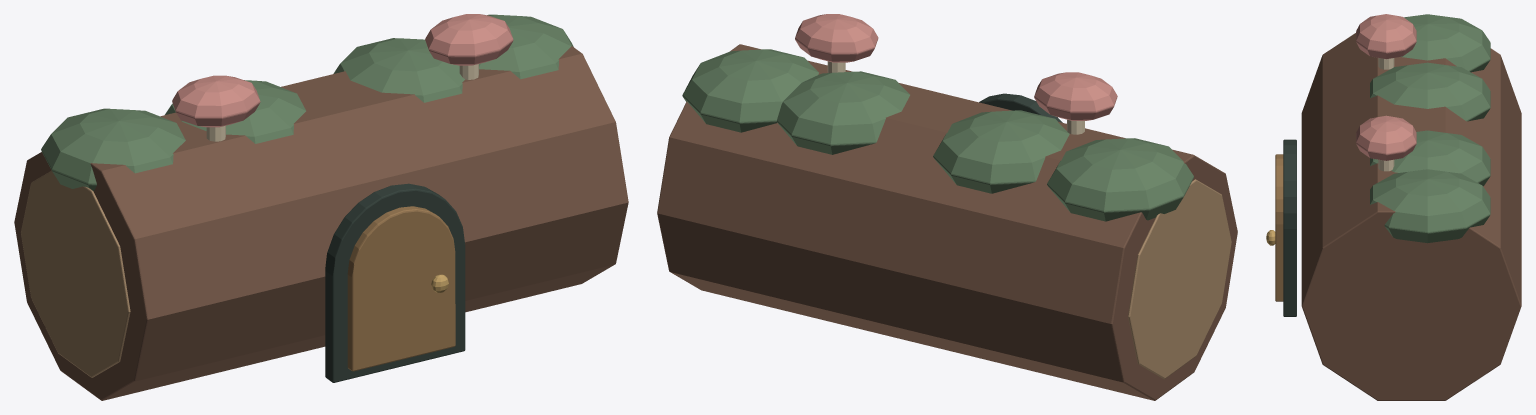
File: hollow-log.glb
3 renders of one model, left to right at view 1: azimuth 30°, elevation 25°; view 2: azimuth 150°, elevation 25°; view 3: azimuth 270°, elevation 25°, orthographic. The views are drawn at different scales.
Visible parts, largest first — view 1: hollow-log_Discovery_Mesh, discovery_Motion.011_Mesh; view 2: hollow-log_Discovery_Mesh; view 3: hollow-log_Discovery_Mesh, discovery_Motion.011_Mesh.
Part boxes in pixels (box(x1,y1,x2,y2)): hollow-log_Discovery_Mesh: box(14, 14, 628, 400); discovery_Motion.011_Mesh: box(347, 206, 455, 371); hollow-log_Discovery_Mesh: box(657, 14, 1237, 400); hollow-log_Discovery_Mesh: box(1283, 14, 1521, 400); discovery_Motion.011_Mesh: box(1266, 154, 1283, 301).
Bounding box in the file's own units: 2.16 × 1.14 × 1.11.
